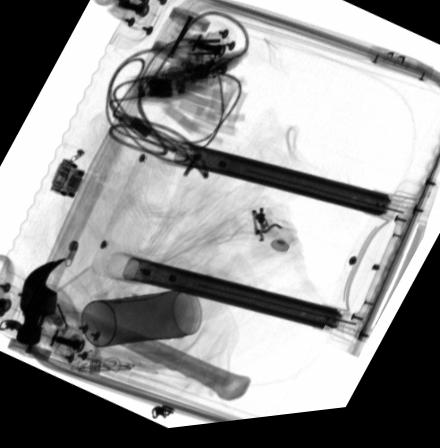Hammer: (14, 258, 249, 407)
